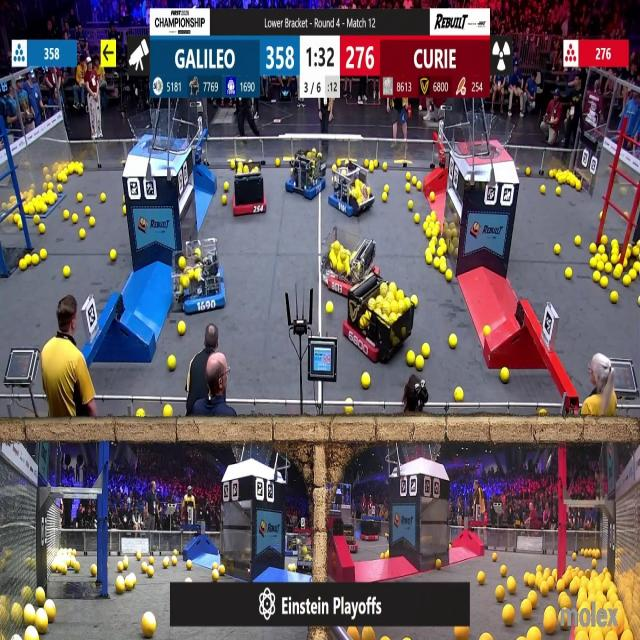ball_airborne: (346, 627, 359, 640), (456, 626, 468, 640), (362, 627, 373, 640)
ball_ground: (142, 615, 156, 638), (543, 612, 555, 636), (502, 605, 514, 625), (44, 601, 55, 620), (36, 617, 47, 635), (522, 602, 532, 619), (126, 575, 137, 589), (36, 589, 45, 606), (496, 586, 505, 602), (119, 579, 128, 594), (506, 580, 515, 595), (528, 629, 540, 640), (454, 387, 464, 400), (168, 355, 176, 370), (361, 374, 369, 389), (450, 335, 458, 349), (500, 368, 508, 382), (408, 352, 416, 366), (615, 266, 623, 280), (27, 629, 38, 639), (416, 356, 424, 369), (178, 321, 185, 335), (422, 344, 429, 358), (165, 407, 173, 419), (178, 256, 186, 268), (529, 592, 537, 604), (599, 264, 609, 273), (18, 261, 26, 272), (601, 276, 608, 288), (479, 571, 486, 583), (92, 564, 99, 576), (432, 256, 439, 268), (610, 253, 618, 263), (557, 173, 565, 183), (610, 291, 617, 302), (555, 244, 562, 255), (325, 303, 332, 314), (565, 269, 572, 280), (440, 262, 447, 273), (482, 633, 493, 640), (64, 267, 70, 279), (346, 408, 354, 417), (412, 294, 418, 306), (438, 247, 446, 256), (76, 167, 84, 176), (109, 250, 116, 260), (624, 276, 631, 286), (32, 254, 39, 264), (590, 244, 597, 254), (499, 566, 506, 576), (212, 570, 219, 580), (630, 271, 637, 281), (447, 271, 453, 282), (40, 249, 46, 260), (524, 573, 530, 584), (137, 411, 145, 419), (426, 254, 433, 263), (83, 207, 90, 216), (26, 255, 33, 264), (90, 216, 96, 226), (485, 326, 491, 336), (79, 230, 85, 240), (435, 560, 441, 570), (186, 560, 192, 570), (147, 566, 153, 576), (574, 237, 580, 247), (594, 272, 600, 282), (122, 560, 128, 570), (591, 261, 597, 271), (598, 245, 604, 255), (74, 562, 80, 572), (25, 205, 31, 215), (600, 237, 607, 245), (148, 557, 155, 565), (428, 240, 435, 248), (425, 248, 432, 256), (403, 173, 410, 181), (172, 557, 178, 566), (72, 214, 78, 223), (164, 560, 170, 569), (64, 211, 70, 220), (58, 183, 64, 192), (426, 231, 432, 240), (34, 214, 40, 223), (602, 253, 608, 262), (39, 223, 44, 233), (415, 213, 420, 223), (219, 565, 224, 575), (212, 562, 219, 569), (539, 185, 545, 193), (412, 176, 418, 184), (76, 192, 82, 200), (382, 192, 388, 200), (221, 197, 227, 205), (429, 192, 435, 200), (430, 213, 436, 221), (526, 168, 532, 176), (440, 240, 446, 248), (431, 230, 437, 238), (547, 170, 553, 178), (441, 256, 447, 264), (47, 182, 53, 190), (592, 560, 598, 568), (492, 553, 497, 562), (223, 182, 228, 191), (575, 181, 580, 190), (407, 186, 412, 195), (538, 411, 545, 417), (101, 192, 106, 200), (417, 182, 422, 190), (557, 187, 562, 195), (276, 160, 281, 168), (383, 164, 388, 172), (194, 248, 199, 256), (289, 564, 294, 572), (635, 295, 640, 303), (185, 576, 190, 583), (426, 215, 431, 222), (137, 554, 142, 561), (229, 160, 234, 167), (536, 565, 541, 572), (410, 202, 414, 210), (385, 184, 389, 192), (17, 220, 21, 228), (424, 221, 428, 229), (372, 159, 376, 167), (385, 553, 389, 560), (122, 206, 125, 215), (572, 554, 576, 560)
goal: (459, 118, 516, 158), (128, 116, 186, 151)
robot_blue: (172, 248, 228, 315), (328, 158, 375, 217), (289, 150, 328, 198), (282, 532, 303, 556)
robot_red: (347, 282, 416, 364), (322, 243, 382, 297), (234, 160, 267, 215), (344, 525, 360, 553), (360, 519, 380, 541)
